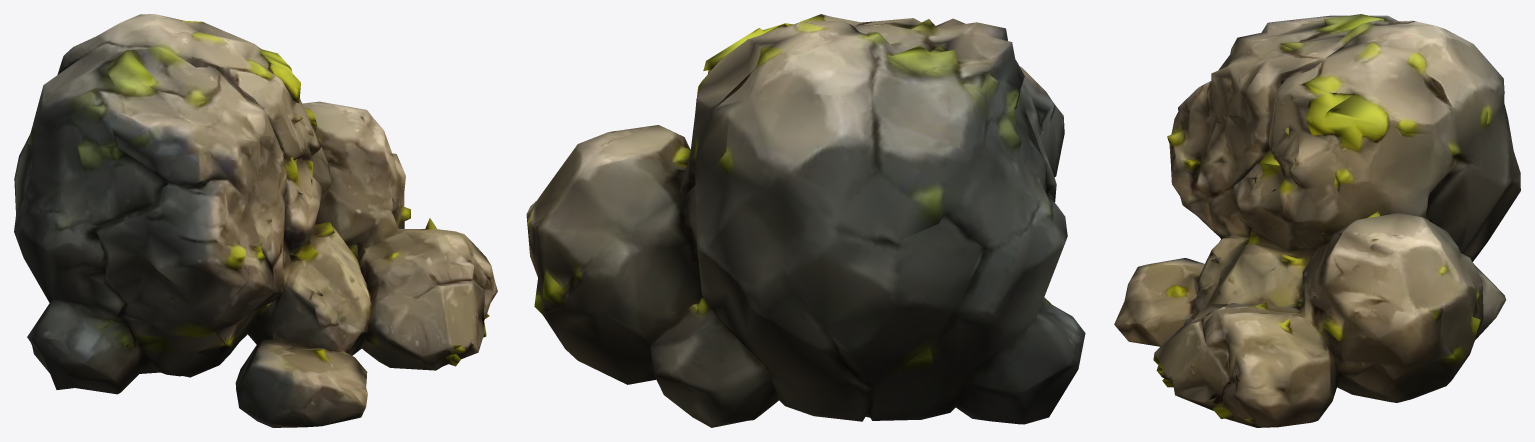
The model's file is cavestone.glb.
3 renders of one model, left to right at view 1: azimuth 30°, elevation 25°; view 2: azimuth 150°, elevation 25°; view 3: azimuth 270°, elevation 25°, orthographic. The views are drawn at different scales.
Parts seen in each view (by area): view 1: tripo_node_73944c59-e8a8-4a23-8a9e-7aa76630ebef; view 2: tripo_node_73944c59-e8a8-4a23-8a9e-7aa76630ebef; view 3: tripo_node_73944c59-e8a8-4a23-8a9e-7aa76630ebef.
Part boxes in pixels (x1=…): tripo_node_73944c59-e8a8-4a23-8a9e-7aa76630ebef: x1=14, y1=14, x2=497, y2=427; tripo_node_73944c59-e8a8-4a23-8a9e-7aa76630ebef: x1=526, y1=14, x2=1085, y2=427; tripo_node_73944c59-e8a8-4a23-8a9e-7aa76630ebef: x1=1114, y1=14, x2=1520, y2=427.
Bounding box in the file's own units: 0.9992 × 0.6687 × 0.8643.
1 material, 1 textured.
